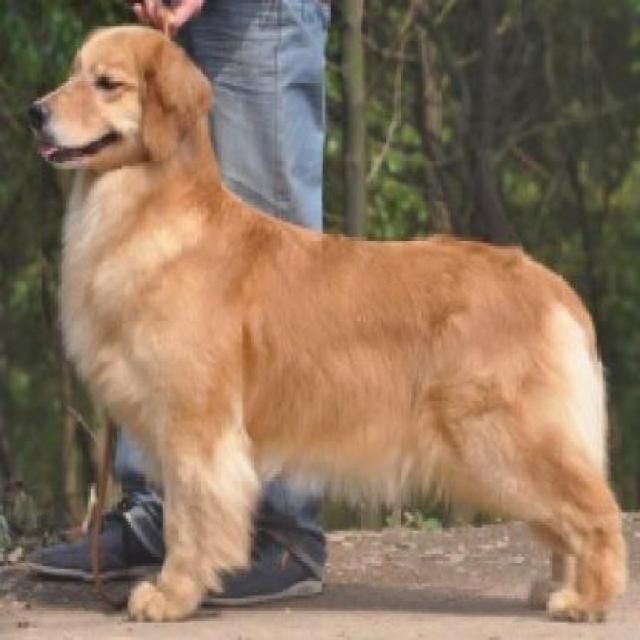Dog: (23, 23, 629, 628)
